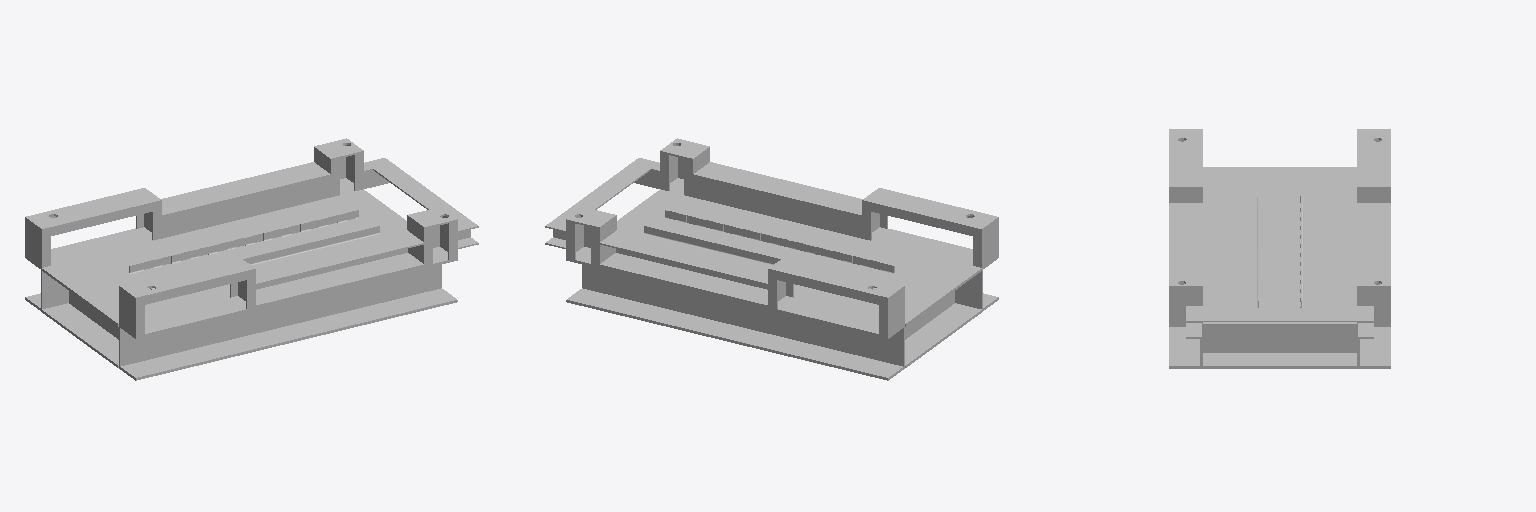
The model's file is cns rama2 changed.obj.
3 views of the same model, side by side, from view 1: azimuth 30°, elevation 25°; view 2: azimuth 150°, elevation 25°; view 3: azimuth 270°, elevation 25° (orthographic).
Parts seen in each view (by area): view 1: imagetostl_mesh0; view 2: imagetostl_mesh0; view 3: imagetostl_mesh0.
Boxes of the visible parts, x1,y1,x2,y2 form: imagetostl_mesh0: [25, 138, 478, 380]; imagetostl_mesh0: [545, 138, 998, 380]; imagetostl_mesh0: [1169, 129, 1390, 368].
Bounding box in the file's own units: 1909 × 430 × 1040.